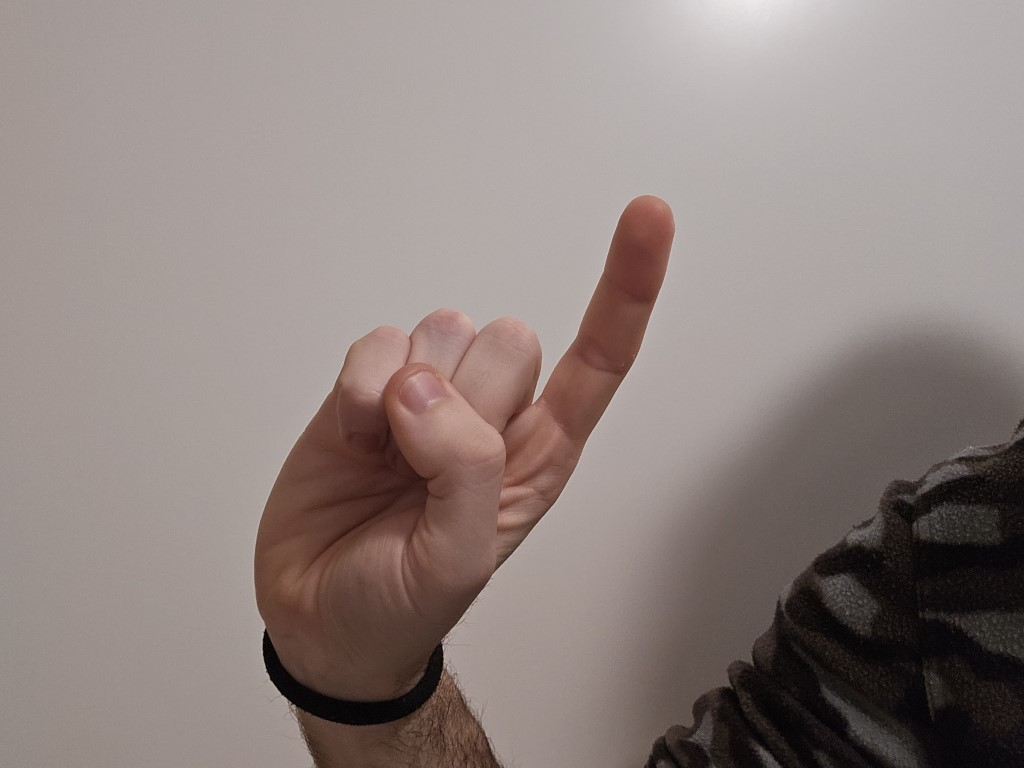z: (209, 175, 719, 655)
